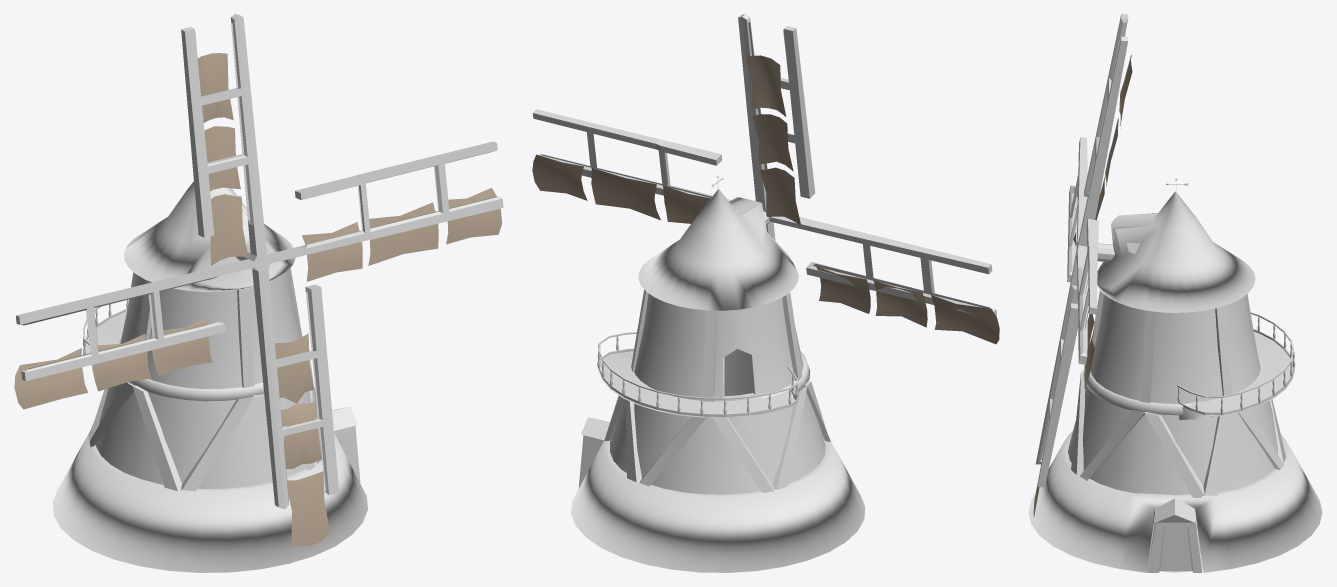
Rendered from windmill.gltf.
The picture shows the model from 3 angles, left to right: view 1: azimuth 30°, elevation 25°; view 2: azimuth 150°, elevation 25°; view 3: azimuth 270°, elevation 25°; orthographic projection. The views are drawn at different scales.
Parts seen in each view (by area): view 1: fan, tower bottom, cloth retopo, tower mid, railing column.017, lower wood beams, wood beams top, ring beam, door, balcony foor; view 2: tower mid, tower bottom, cloth retopo, fan, railing column.017, lower wood beams, balcony foor, wood beams top, railing column, door, railing column.001; view 3: tower mid, tower bottom, railing column.017, fan, lower wood beams, balcony foor, wood beams top, door, cloth retopo, ring beam, entrance door, railing column (+1 smaller).
Boxes of the visible parts, x1,y1,x2,y2 form: fan: [16, 14, 503, 509]; tower bottom: [52, 431, 367, 572]; cloth retopo: [14, 53, 502, 545]; tower mid: [96, 271, 317, 488]; railing column.017: [124, 181, 295, 291]; lower wood beams: [88, 350, 321, 491]; wood beams top: [138, 268, 302, 387]; ring beam: [119, 339, 264, 401]; door: [332, 406, 360, 482]; balcony foor: [85, 311, 126, 353]; tower mid: [610, 293, 825, 494]; tower bottom: [571, 438, 865, 572]; cloth retopo: [532, 55, 999, 344]; fan: [532, 14, 996, 316]; railing column.017: [638, 189, 798, 310]; lower wood beams: [604, 381, 830, 492]; balcony foor: [598, 351, 796, 417]; wood beams top: [631, 289, 802, 401]; railing column: [599, 332, 798, 416]; door: [578, 417, 609, 488]; railing column.001: [597, 336, 798, 415]; tower mid: [1068, 294, 1277, 495]; tower bottom: [1028, 431, 1322, 572]; railing column.017: [1097, 191, 1255, 312]; fan: [1036, 14, 1128, 487]; lower wood beams: [1071, 367, 1286, 497]; balcony foor: [1179, 331, 1294, 419]; wood beams top: [1092, 290, 1255, 402]; door: [1147, 498, 1202, 572]; cloth retopo: [1033, 55, 1132, 516]; ring beam: [1083, 358, 1261, 415]; entrance door: [1160, 526, 1191, 571]; railing column: [1177, 312, 1293, 415].
Size of the model in its own units: 12.79 by 12.67 by 7.09.
